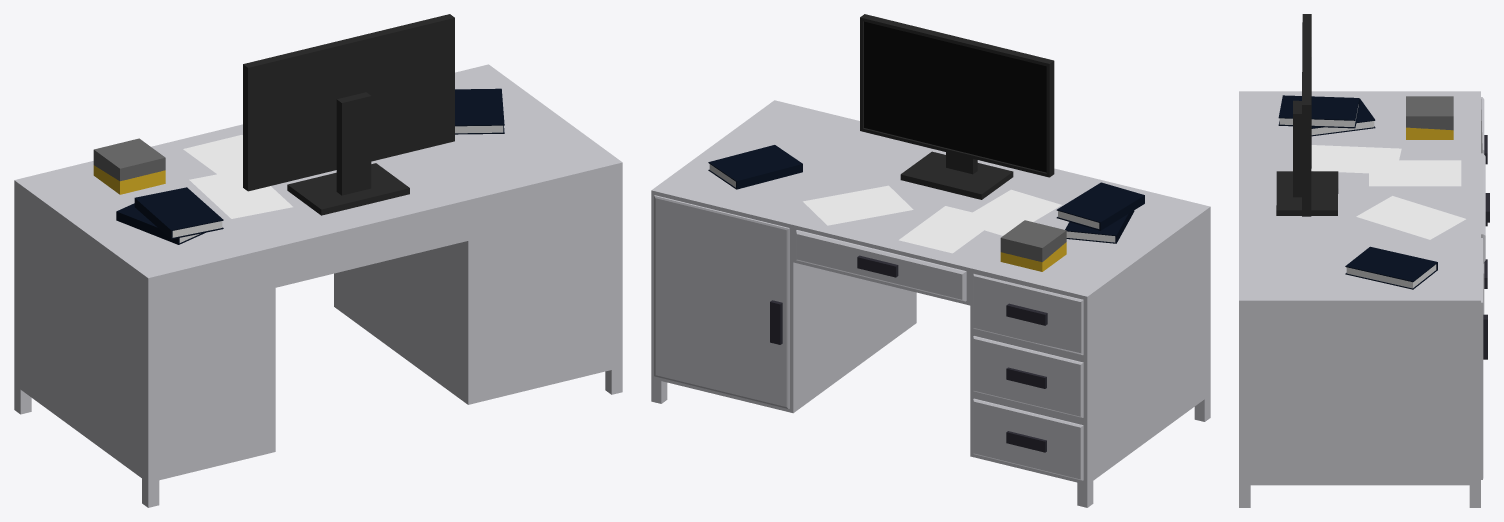
File: Security_Desk.fbx
3 views of the same model, side by side, from view 1: azimuth 30°, elevation 25°; view 2: azimuth 150°, elevation 25°; view 3: azimuth 270°, elevation 25° (orthographic). The views are drawn at different scales.
Parts seen in each view (by area): view 1: HANDEAL, Box177, Box178, Book078, Box179, Plane008, Book079, Box181, Plane006, Box180, Book077; view 2: HANDEAL, Box177, Box179, Book079, Book078, Plane007, Plane006, Plane008, Box181, Book077, Box180; view 3: HANDEAL, Book079, Plane007, Plane006, Plane008, Box179, Box177, Book078, Box181, Box178, Book077, Box180.
Part boxes in pixels (box(x1,y1,x2,y2)): HANDEAL: box(14, 64, 622, 507); Box177: box(243, 14, 454, 191); Box178: box(336, 92, 371, 195); Book078: box(134, 187, 223, 239); Box179: box(287, 163, 409, 215); Plane008: box(189, 169, 292, 218); Book079: box(455, 88, 504, 134); Box181: box(93, 138, 165, 181); Plane006: box(183, 135, 242, 184); Box180: box(93, 165, 165, 194); Book077: box(116, 203, 205, 244); HANDEAL: box(651, 100, 1210, 507); Box177: box(860, 14, 1054, 177); Box179: box(900, 151, 1013, 199); Book079: box(708, 145, 802, 189); Book078: box(1056, 182, 1144, 230); Plane007: box(803, 185, 913, 225); Plane006: box(899, 206, 999, 253); Plane008: box(963, 189, 1061, 235); Box181: box(1000, 220, 1066, 262); Book077: box(1065, 210, 1134, 243); Box180: box(1000, 242, 1066, 271); HANDEAL: box(1239, 91, 1485, 507); Book079: box(1345, 246, 1437, 289); Plane007: box(1356, 196, 1465, 239); Plane006: box(1369, 160, 1461, 186); Plane008: box(1311, 145, 1401, 173); Box179: box(1276, 171, 1338, 215); Box177: box(1302, 14, 1311, 216); Book078: box(1278, 95, 1359, 128); Box181: box(1406, 96, 1453, 130); Box178: box(1293, 100, 1301, 197); Book077: box(1311, 99, 1375, 136); Box180: box(1406, 127, 1453, 139).
Size of the model in its own units: 161 by 123 by 81.49.
